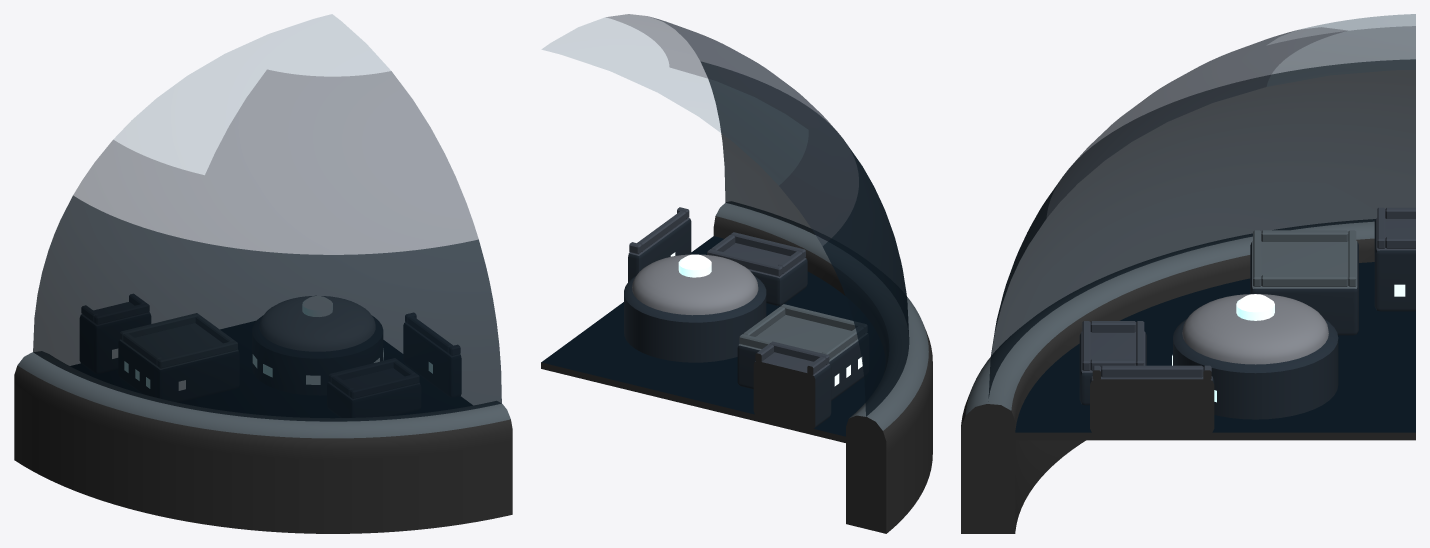
Rendered from glass_city_bl.glb.
3 views of the same model, side by side, from view 1: azimuth 30°, elevation 25°; view 2: azimuth 150°, elevation 25°; view 3: azimuth 270°, elevation 25° (orthographic). The views are drawn at different scales.
Visible parts, largest first — view 1: glassshell.001, collar.001, b9.001, floor.001, hall_dome.001, hall.001, b14.001, b12.001, b8.001, b9_rim_s.001, b9_rim_n.001, b14_rim_s.001; view 2: glassshell.001, collar.001, floor.001, hall.001, hall_dome.001, b8.001, b9.001, b14.001, b12.001, b9_rim_s.001, b14_rim_s.001, b14_rim_n.001 (+5 smaller); view 3: glassshell.001, collar.001, floor.001, hall.001, hall_dome.001, b12.001, b9.001, b8.001, b14.001, b12_rim_w.001, b9_rim_e.001, b9_rim_w.001 (+2 smaller).
Part boxes in pixels (box(x1,y1,x2,y2)): glassshell.001: box(33, 14, 501, 421); collar.001: box(14, 351, 512, 533); b9.001: box(118, 323, 239, 402); floor.001: box(71, 321, 472, 417); hall_dome.001: box(260, 296, 375, 351); hall.001: box(252, 316, 382, 395); b14.001: box(327, 368, 420, 417); b12.001: box(403, 322, 461, 397); b8.001: box(80, 302, 150, 373); b9_rim_s.001: box(158, 341, 237, 367); b9_rim_n.001: box(120, 313, 198, 339); b14_rim_s.001: box(350, 374, 419, 398); glassshell.001: box(542, 14, 909, 416); collar.001: box(713, 201, 932, 533); floor.001: box(541, 236, 885, 442); hall.001: box(624, 275, 766, 362); hall_dome.001: box(632, 254, 758, 315); b8.001: box(753, 352, 831, 429); b9.001: box(737, 315, 868, 400); b14.001: box(723, 243, 807, 305); b12.001: box(628, 217, 691, 281); b9_rim_s.001: box(780, 304, 867, 333); b14_rim_s.001: box(730, 232, 805, 259); b14_rim_n.001: box(707, 249, 782, 276); glassshell.001: box(988, 14, 1415, 401); collar.001: box(961, 219, 1375, 533); floor.001: box(1013, 262, 1415, 440); hall.001: box(1173, 319, 1338, 419); hall_dome.001: box(1182, 294, 1328, 364); b12.001: box(1090, 376, 1214, 433); b9.001: box(1250, 241, 1358, 335); b8.001: box(1374, 218, 1415, 311); b14.001: box(1079, 331, 1146, 405); b12_rim_w.001: box(1101, 365, 1203, 377); b9_rim_e.001: box(1261, 275, 1348, 286); b9_rim_w.001: box(1261, 230, 1348, 241).
Size of the model in its own units: 17.88 by 19.8 by 17.59.
